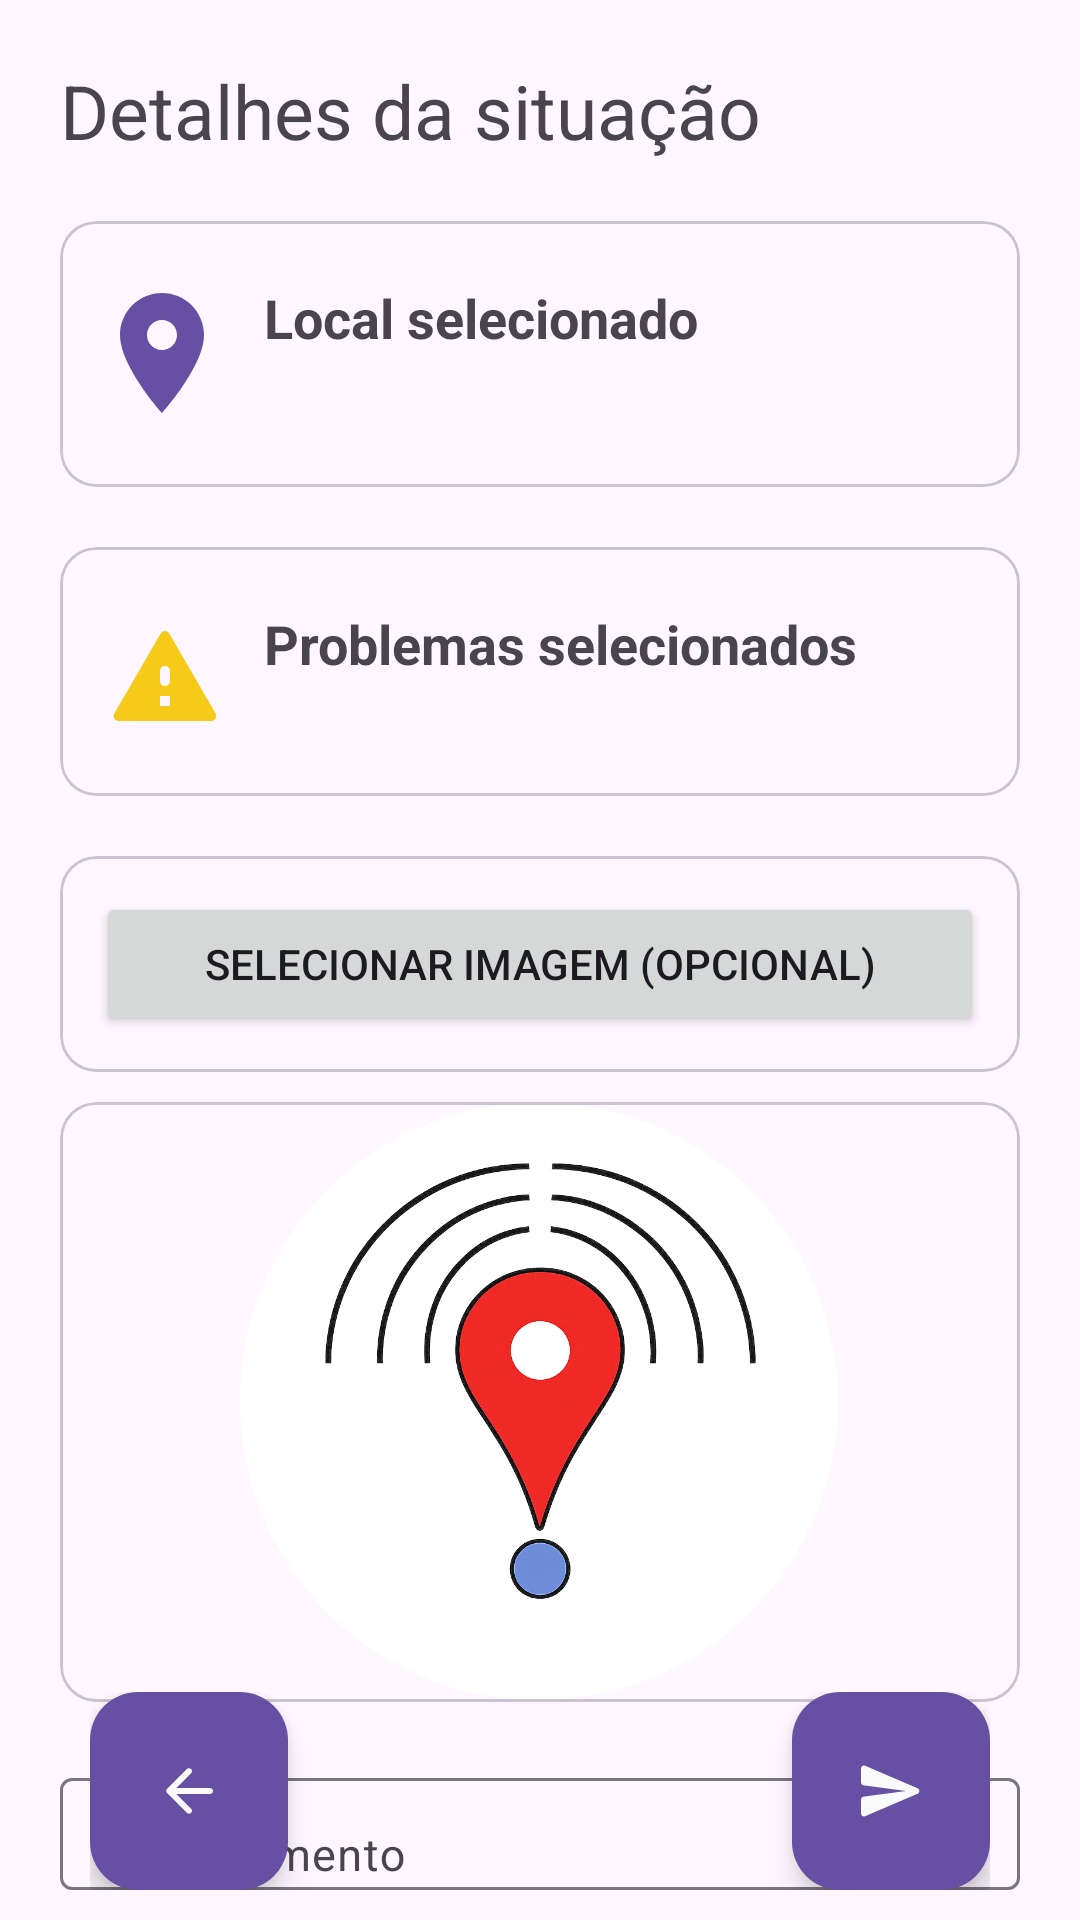

Named icons in this screenshot (1080 × 1920) and their centers, (x,y):
arrow back: (189,1791)
location on: (162,353)
report problem: (165,676)
send: (891,1791)
